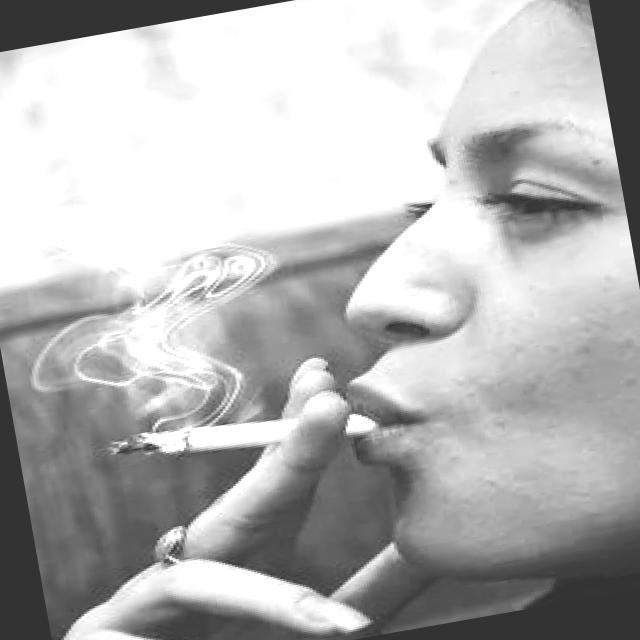smoke: (92, 386, 391, 494)
